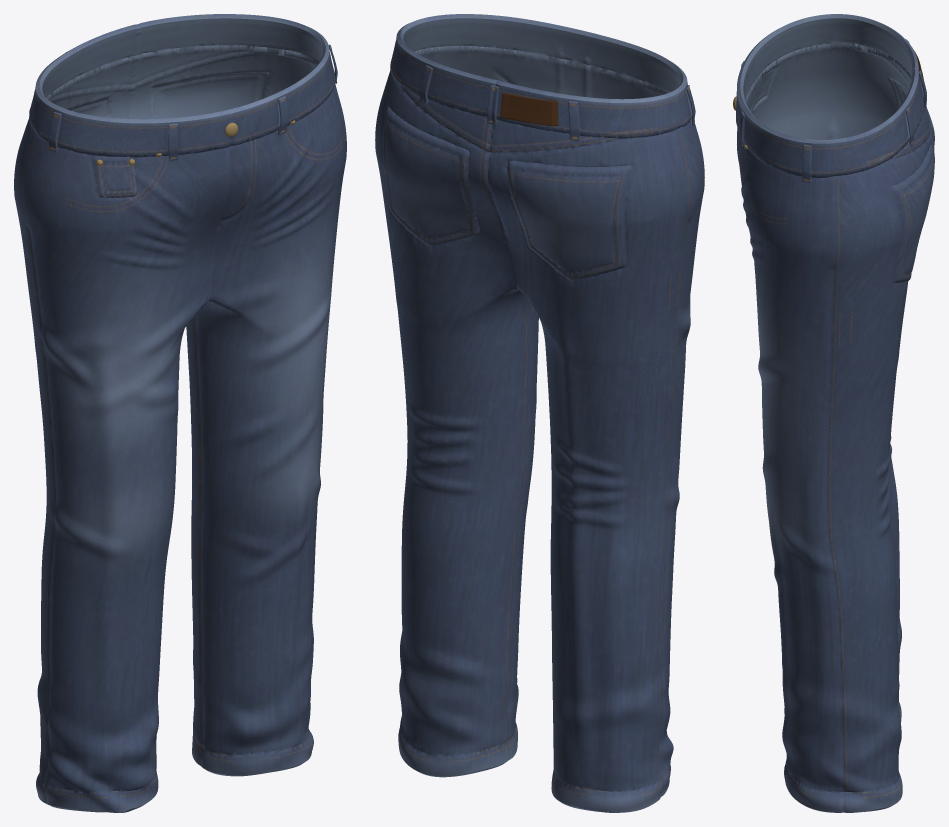
Rendered from 22_vaquero_slim_pbr.glb.
The picture shows the model from 3 angles, left to right: view 1: azimuth 30°, elevation 25°; view 2: azimuth 150°, elevation 25°; view 3: azimuth 270°, elevation 25°; orthographic projection. The views are drawn at different scales.
Parts seen in each view (by area): view 1: Vaquero PBR; view 2: Vaquero PBR, Etiqueta de piel; view 3: Vaquero PBR.
Part boxes in pixels (x1,y1,x2,y2): Vaquero PBR: [14, 14, 346, 812]; Vaquero PBR: [375, 14, 704, 812]; Etiqueta de piel: [500, 93, 558, 125]; Vaquero PBR: [736, 14, 934, 812].
Size of the model in its own units: 0.4237 by 0.9531 by 0.2518.
3 materials, 1 textured.
